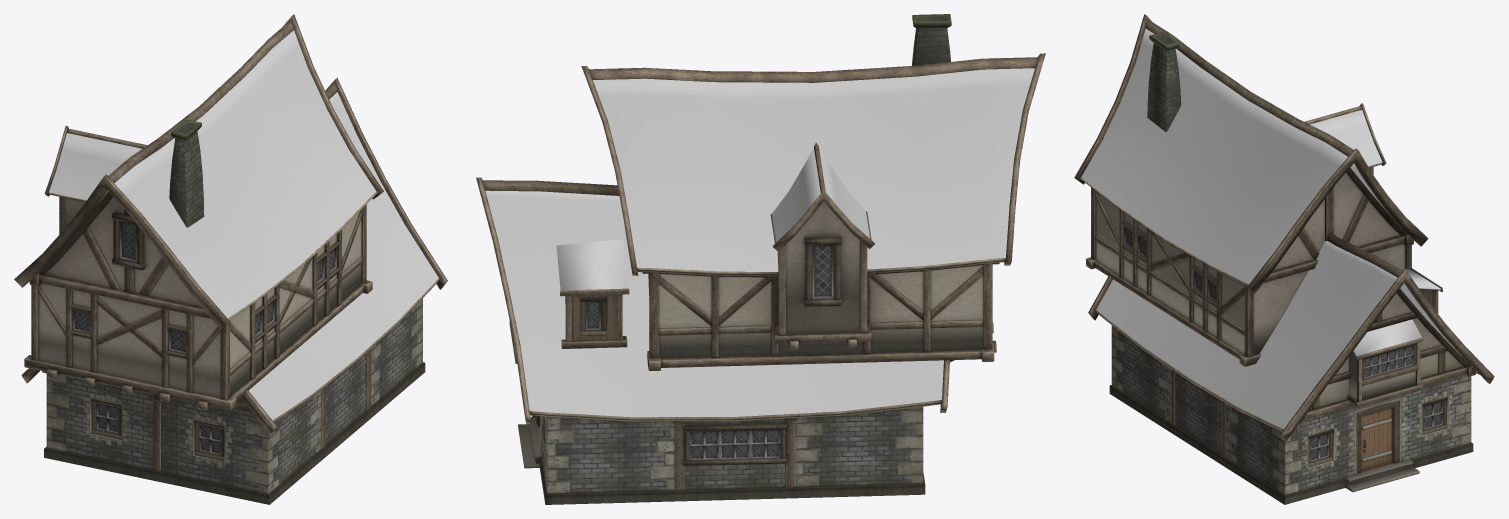
The model's file is Casa27(N).fbx.
3 renders of one model, left to right at view 1: azimuth 30°, elevation 25°; view 2: azimuth 150°, elevation 25°; view 3: azimuth 270°, elevation 25°, orthographic. The views are drawn at different scales.
Visible parts, largest first — view 1: Casa27 - Nobre; view 2: Casa27 - Nobre; view 3: Casa27 - Nobre.
Boxes of the visible parts, <box> form: Casa27 - Nobre: <box>14,14,447,504</box>; Casa27 - Nobre: <box>476,14,1045,504</box>; Casa27 - Nobre: <box>1074,14,1494,504</box>.
Bounding box in the file's own units: 1609 × 1257 × 1446.
